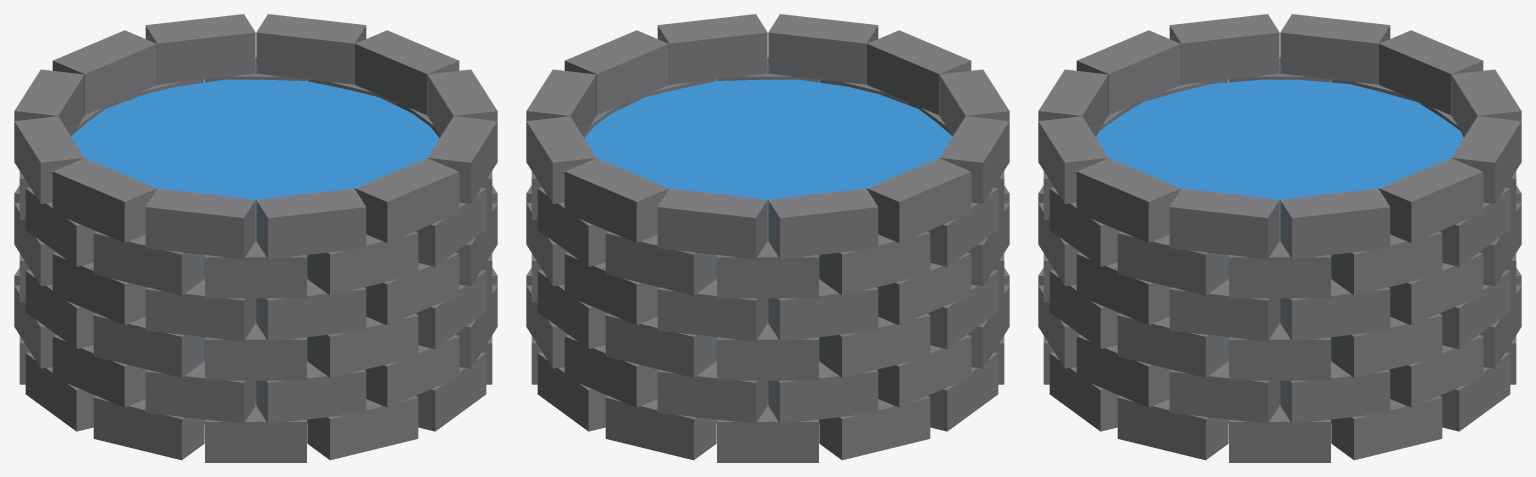
Rendered from well.glb.
The picture shows the model from 3 angles, left to right: view 1: azimuth 30°, elevation 25°; view 2: azimuth 150°, elevation 25°; view 3: azimuth 270°, elevation 25°; orthographic projection.
Visible parts, largest first — view 1: Cylinder.005, Cube.247, Cube.248, Cube.241, Cube.242, Cube.246, Cube.249, Cube.240, Cube.243, Cube.103, Cube.104, Cube.175 (+28 smaller); view 2: Cylinder.005, Cube.240, Cube.251, Cube.245, Cube.246, Cube.241, Cube.250, Cube.244, Cube.247, Cube.096, Cube.107, Cube.168 (+28 smaller); view 3: Cylinder.005, Cube.243, Cube.244, Cube.249, Cube.250, Cube.242, Cube.245, Cube.248, Cube.251, Cube.099, Cube.100, Cube.171 (+29 smaller).
Part boxes in pixels (x1,y1,x2,y2): Cylinder.005: [71, 79, 439, 424]; Cube.247: [256, 188, 366, 259]; Cube.248: [145, 188, 255, 259]; Cube.241: [145, 14, 255, 84]; Cube.242: [256, 14, 366, 84]; Cube.246: [355, 158, 459, 242]; Cube.249: [52, 158, 156, 242]; Cube.240: [52, 30, 156, 114]; Cube.243: [355, 30, 459, 114]; Cube.103: [256, 359, 366, 423]; Cube.104: [145, 360, 255, 423]; Cube.175: [256, 276, 366, 341]; Cylinder.005: [584, 79, 952, 424]; Cube.240: [657, 188, 767, 259]; Cube.251: [768, 188, 878, 259]; Cube.245: [657, 14, 767, 84]; Cube.246: [768, 14, 878, 84]; Cube.241: [564, 158, 668, 242]; Cube.250: [867, 158, 971, 242]; Cube.244: [564, 30, 668, 114]; Cube.247: [867, 30, 971, 114]; Cube.096: [657, 359, 767, 423]; Cube.107: [768, 360, 878, 423]; Cube.168: [657, 276, 767, 341]; Cylinder.005: [1096, 79, 1463, 422]; Cube.243: [1280, 188, 1390, 259]; Cube.244: [1169, 188, 1279, 259]; Cube.249: [1169, 14, 1279, 84]; Cube.250: [1280, 14, 1390, 84]; Cube.242: [1379, 158, 1483, 242]; Cube.245: [1076, 158, 1180, 242]; Cube.248: [1076, 30, 1180, 114]; Cube.251: [1379, 30, 1483, 114]; Cube.099: [1280, 359, 1390, 423]; Cube.100: [1169, 359, 1279, 423]; Cube.171: [1280, 276, 1390, 341].
Size of the model in its own units: 0.9637 by 0.5435 by 0.9637.
